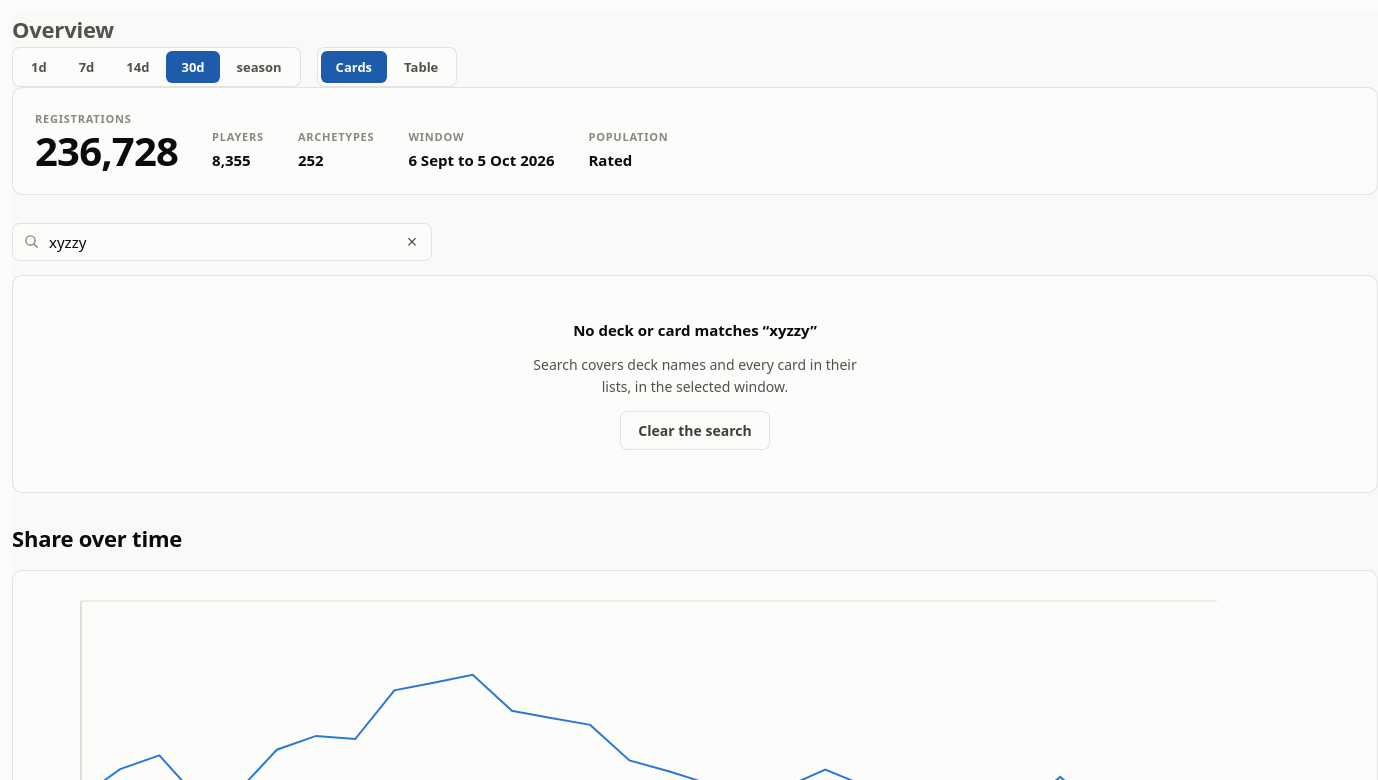
it: OverviewPage search › clears an edit the pause has not sent yet with the panel's button
Replace the text in the search field named "Search decks or cards" with "xyzzyz" at (222, 242), box x1=12 y1=223 x2=432 y2=261
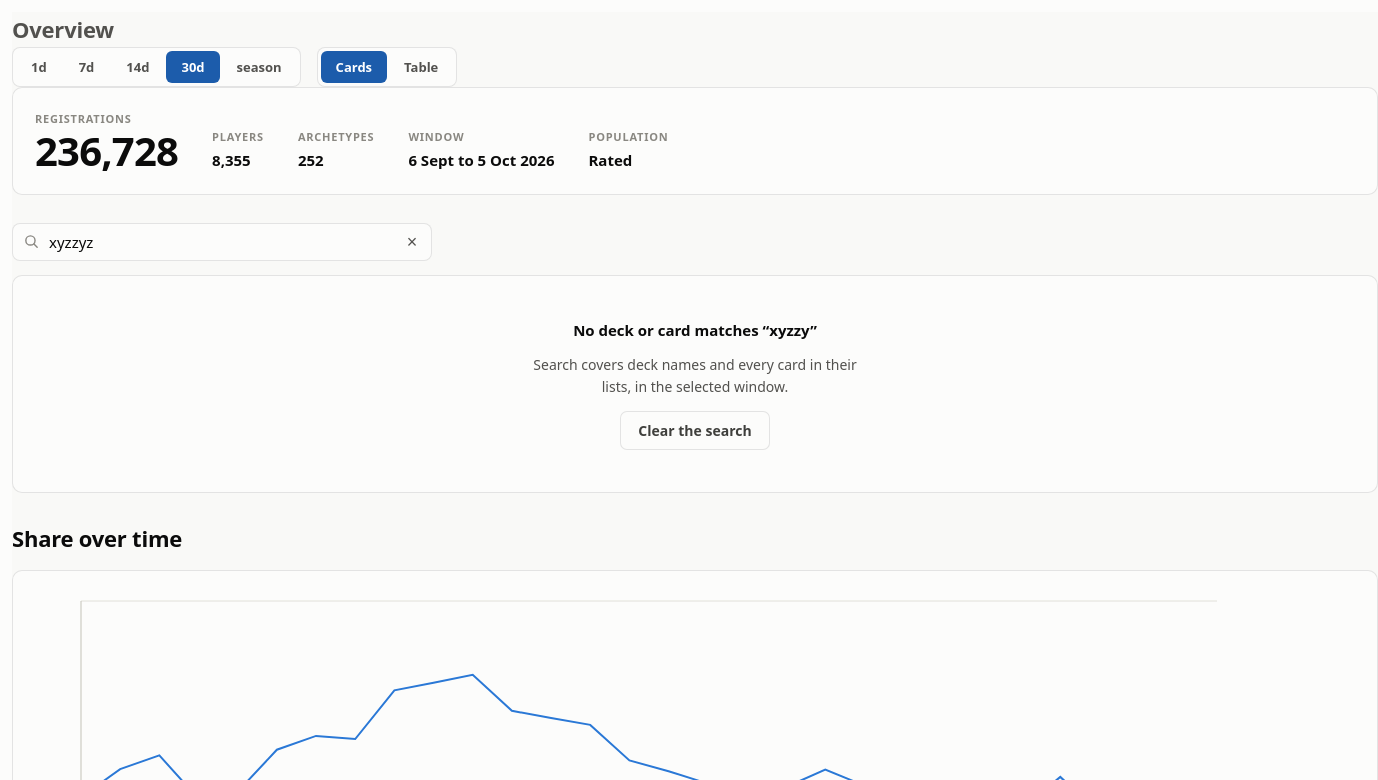
Click the button "Clear the search" at (695, 430), box x1=620 y1=411 x2=770 y2=450
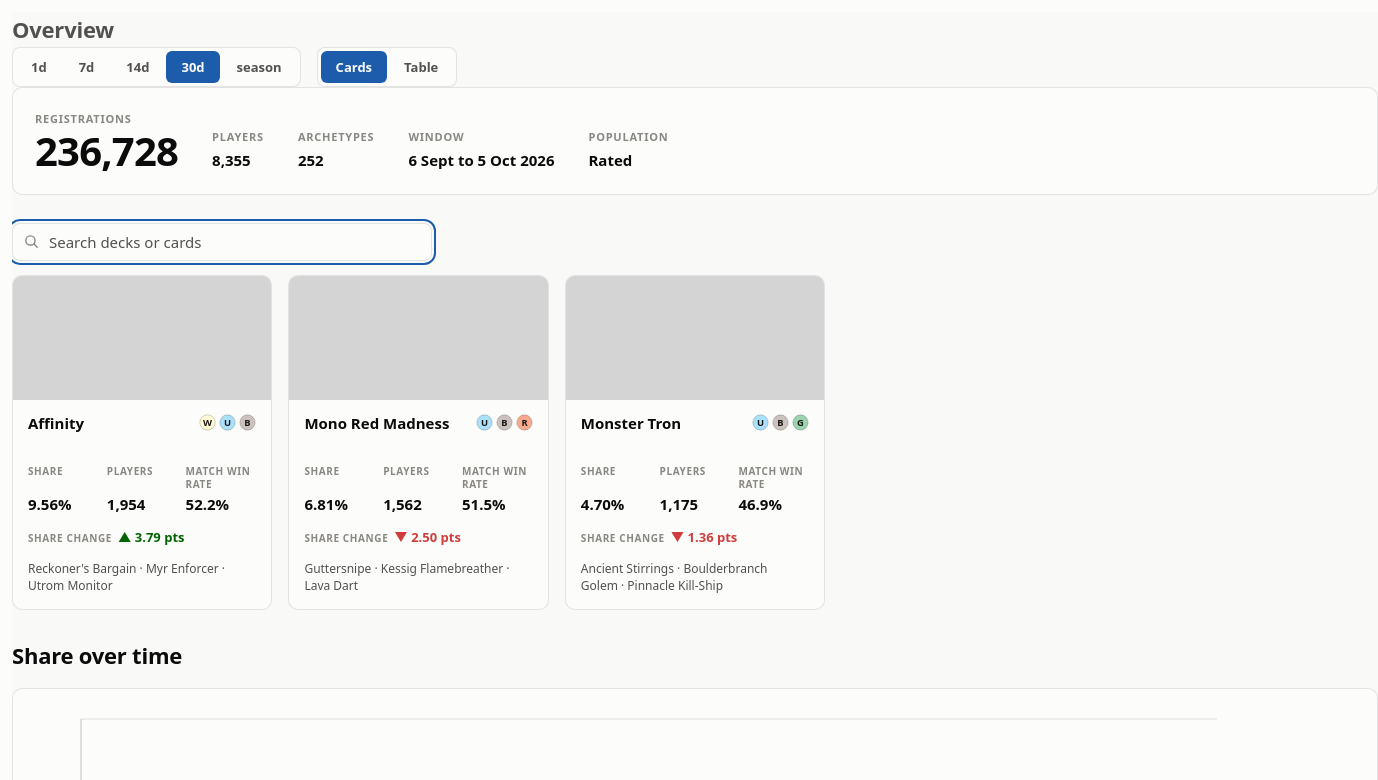
Check: the search field labelled "Search decks or cards" is empty, box x1=12 y1=223 x2=432 y2=261
